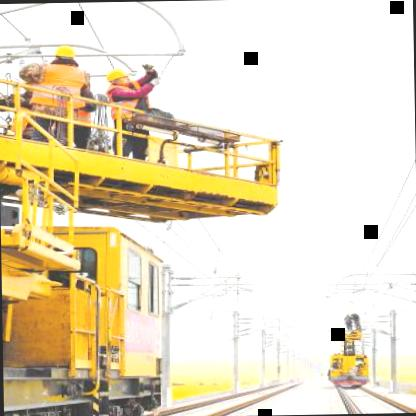helmet: (47, 44, 81, 71), (104, 64, 134, 90)
